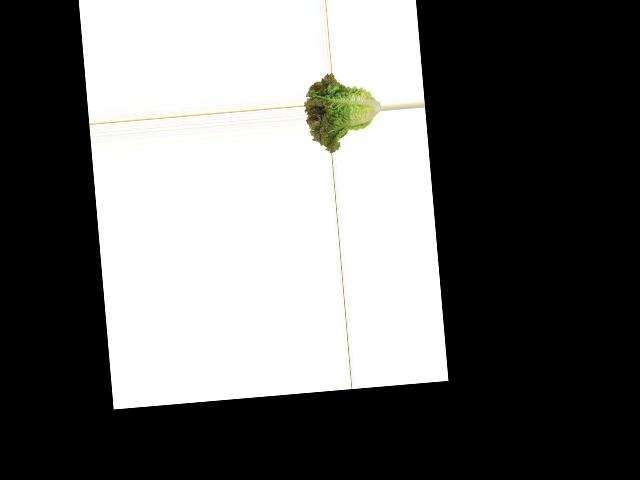lettuce: (302, 70, 384, 154)
